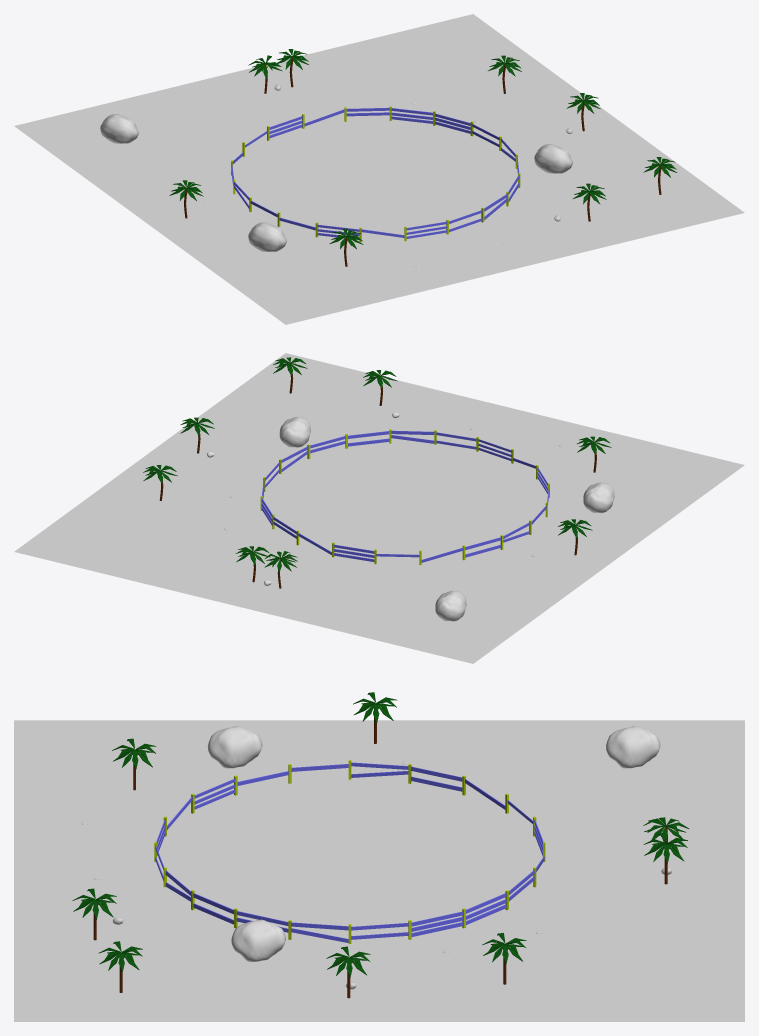
The model's file is Beach_Arena.fbx.
3 views of the same model, one above another, from view 1: azimuth 30°, elevation 25°; view 2: azimuth 150°, elevation 25°; view 3: azimuth 270°, elevation 25° (orthographic). The views are drawn at different scales.
Parts seen in each view (by area): view 1: Plane001, Fence Post17, Sphere002, Sphere006, Sphere005; view 2: Plane001, Fence Post17, Sphere002, Sphere006, Sphere005; view 3: Plane001, Fence Post17, Sphere006, Sphere002, Sphere005, Trunk006, Trunk002, Trunk005, Trunk, Trunk001, Trunk007, Trunk004.
Part boxes in pixels (left/top/right/bottom): Plane001: left=14, top=14, right=744, bottom=324; Fence Post17: left=231, top=106, right=520, bottom=242; Sphere002: left=534, top=144, right=572, bottom=173; Sphere006: left=100, top=114, right=138, bottom=143; Sphere005: left=248, top=222, right=286, bottom=251; Plane001: left=14, top=353, right=744, bottom=663; Fence Post17: left=260, top=429, right=549, bottom=565; Sphere002: left=279, top=417, right=310, bottom=447; Sphere006: left=435, top=590, right=466, bottom=621; Sphere005: left=583, top=482, right=614, bottom=513; Plane001: left=14, top=720, right=744, bottom=1021; Fence Post17: left=154, top=760, right=545, bottom=943; Sphere006: left=606, top=726, right=660, bottom=768; Sphere002: left=231, top=919, right=285, bottom=961; Sphere005: left=207, top=726, right=262, bottom=768; Trunk006: left=72, top=888, right=116, bottom=940; Trunk002: left=643, top=832, right=687, bottom=884; Trunk005: left=98, top=941, right=142, bottom=992; Trunk: left=326, top=946, right=370, bottom=998; Trunk001: left=482, top=933, right=526, bottom=984; Trunk007: left=353, top=692, right=397, bottom=743; Trunk004: left=112, top=738, right=156, bottom=790.
Size of the model in its own units: 4105 by 293 by 4207.
